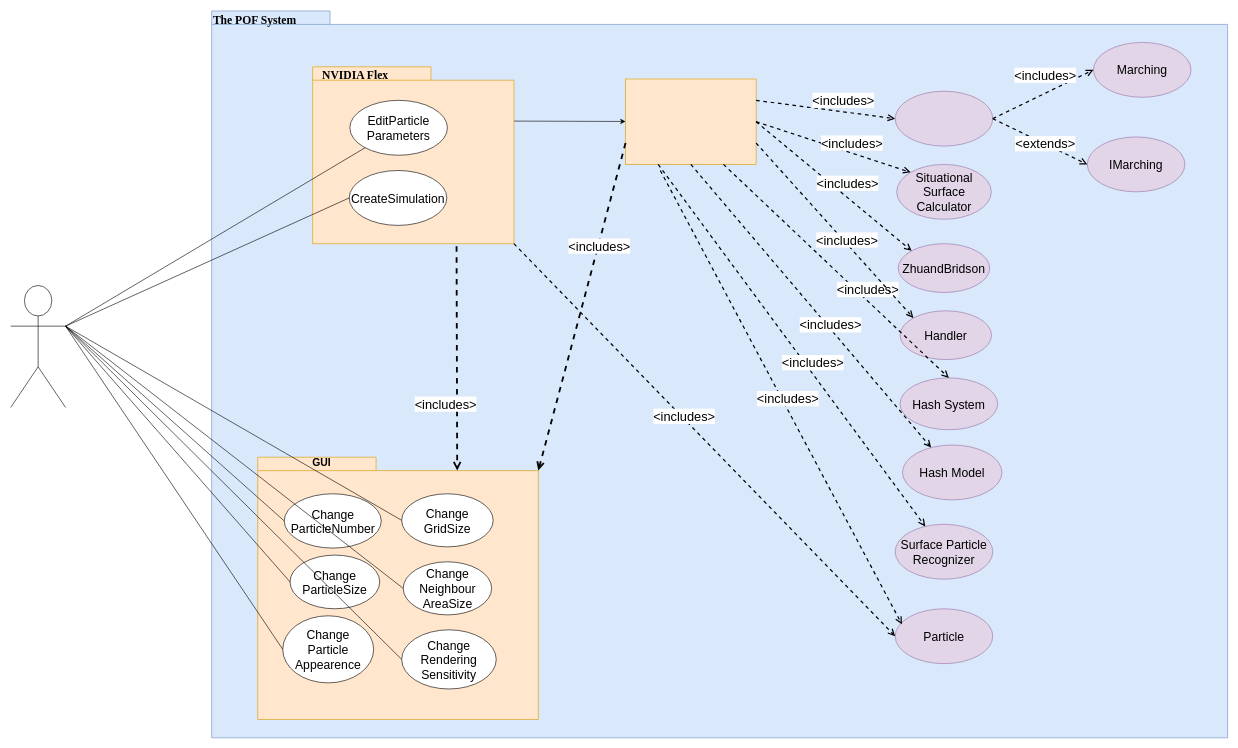
The diagram is 1238 pixels wide and 748 high, and some of its shapes have lost their labels. The shapes that lost their labels are listed below. From the top down, each one's centre as x and y in pixels, then its label:
At (690,121): "Particle Surface Reconstructor".
At (944,118): "Marching Cubes".
At (38,346): "User".
